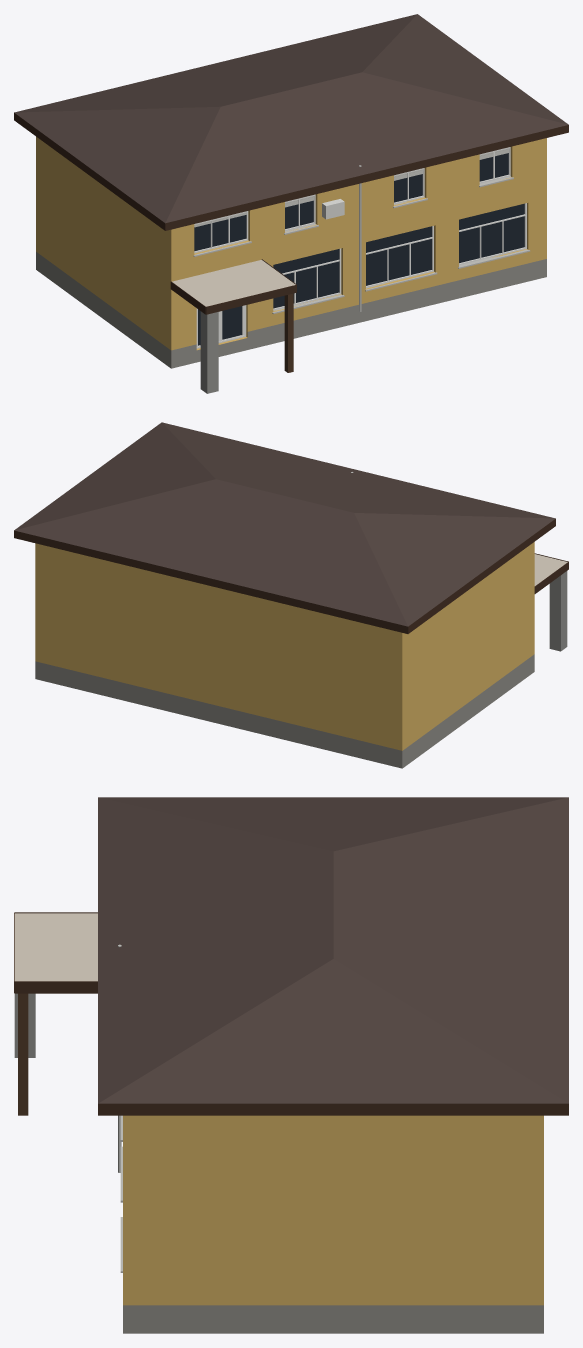
The model's file is opcina.glb.
The picture shows the model from 3 angles, top to bottom: view 1: azimuth 30°, elevation 25°; view 2: azimuth 150°, elevation 25°; view 3: azimuth 270°, elevation 25°; orthographic projection. The views are drawn at different scales.
Parts seen in each view (by area): view 1: Opcina; view 2: Opcina; view 3: Opcina.
Part boxes in pixels (box(x1,y1,x2,y2)): Opcina: box(14, 14, 568, 393); Opcina: box(14, 422, 568, 768); Opcina: box(14, 797, 568, 1333).
Size of the model in its own units: 17.4 by 7.57 by 13.32.
